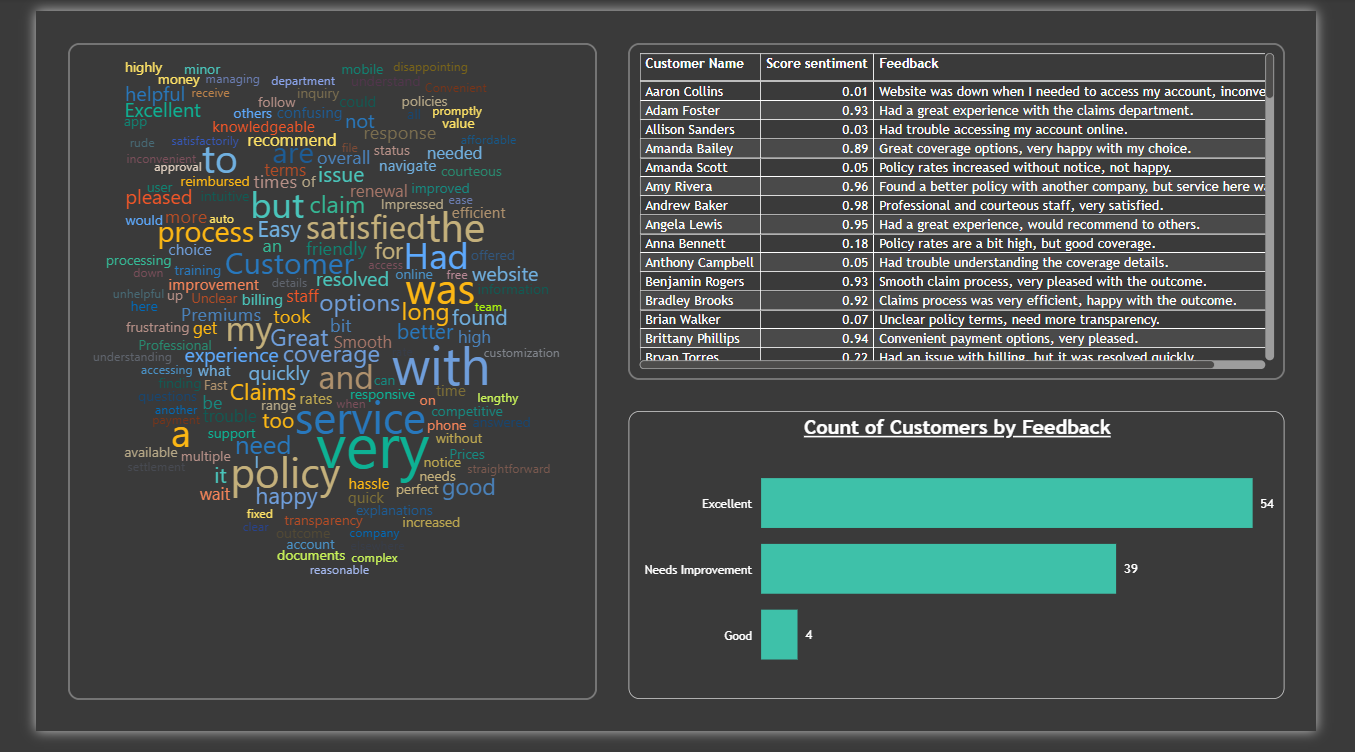

This screenshot's page, from the dashboard's own definition file:
{"tool":"powerbi","page":{"name":"Feedbacks","canvas":[1280,720],"ordinal":2},"visuals":[{"type":"WordCloud1447959067750","fields":{"Category":["CustomerFeedback.Feedback"],"Values":["CustomerFeedback.Feedback"]},"box":[32,32,528,656],"z":0},{"type":"barChart","title":"Count of Customers by Feedback","fields":{"Category":["CustomerFeedback.Good/Improvement"],"Y":["CustomerFeedback.Customer Name"]},"box":[592,400,656,288],"z":1000},{"type":"tableEx","fields":{"Values":["CustomerFeedback.Customer Name","CustomerFeedback.Score sentiment","CustomerFeedback.Feedback"]},"box":[592,32,656,336],"z":2000}]}

Visuals, with their boxes in screenshot pixels (x1, y1, x2, y2), scaled from the page's 1280x720 canvas onto the 1355x752 screenshot:
WordCloud1447959067750 - CustomerFeedback.Feedback x CustomerFeedback.Feedback: (x1=34, y1=33, x2=593, y2=719)
"Count of Customers by Feedback" barChart: (x1=627, y1=418, x2=1321, y2=719)
tableEx - CustomerFeedback.Customer Name x CustomerFeedback.Score sentiment: (x1=627, y1=33, x2=1321, y2=384)
